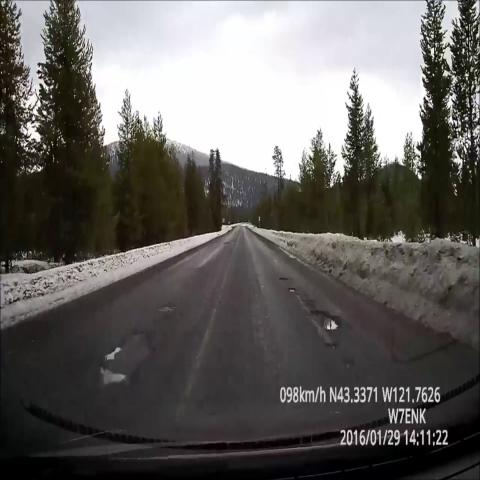pothole: (80, 314, 166, 415), (306, 292, 346, 343), (147, 290, 174, 330), (217, 228, 234, 253), (272, 270, 298, 284), (284, 283, 304, 296)
